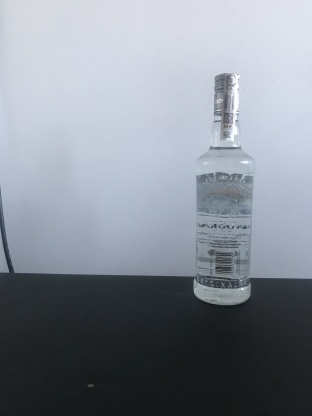nakretka: (211, 69, 242, 117)
